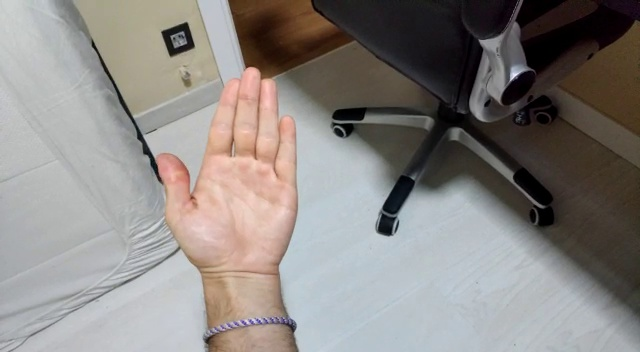Palm: (156, 64, 300, 290)
